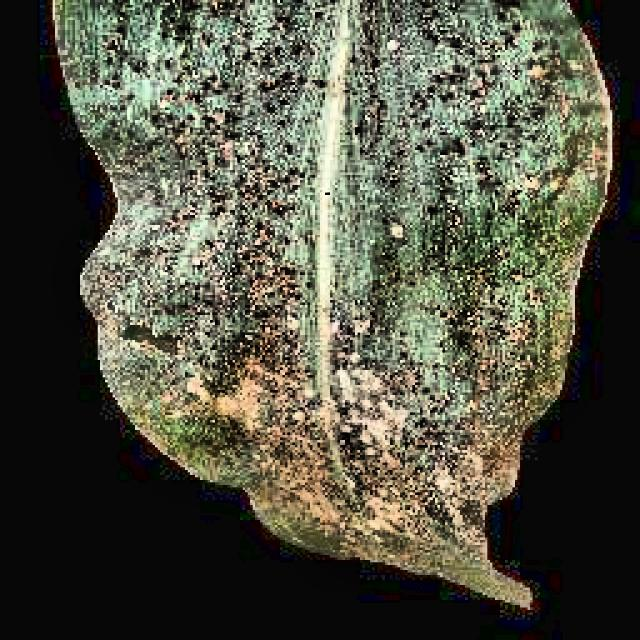tobacco: (52, 0, 610, 602)
